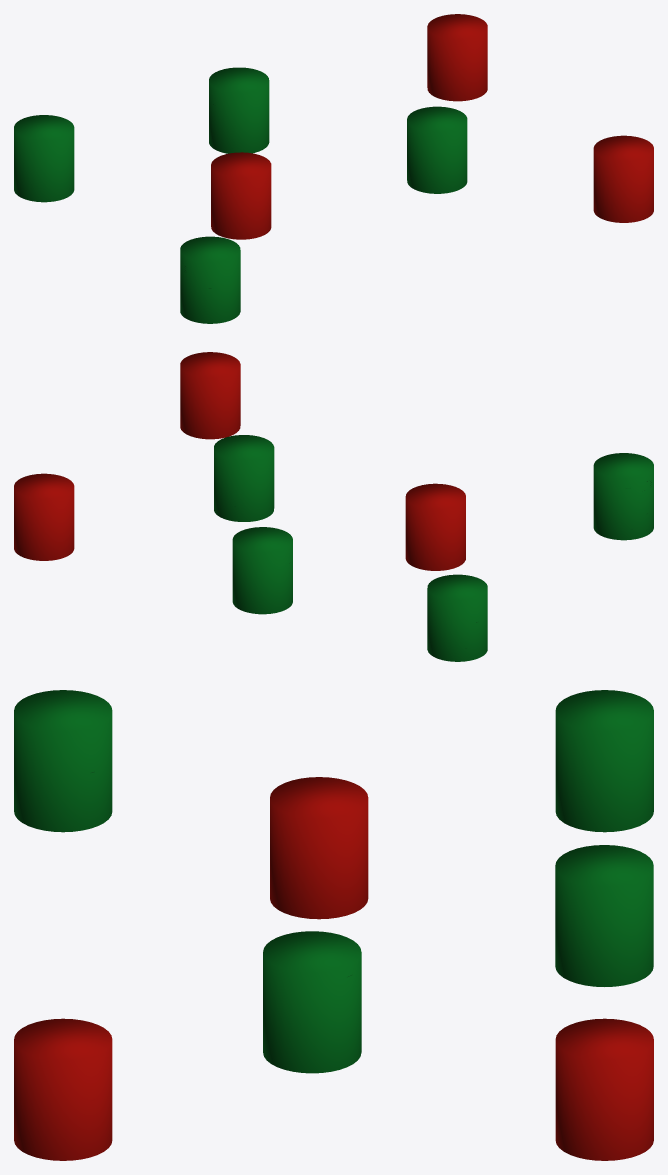
The model's file is CylindersTL.dae.
3 views of the same model, one above another, from view 1: azimuth 30°, elevation 25°; view 2: azimuth 150°, elevation 25°; view 3: azimuth 270°, elevation 25° (orthographic). The views are drawn at different scales.
Parts seen in each view (by area): view 1: CylinderTL; view 2: CylinderTL; view 3: CylinderTL.
Boxes of the visible parts, x1,y1,x2,y2 form: CylinderTL: (14, 14, 653, 323); CylinderTL: (14, 352, 653, 661); CylinderTL: (14, 690, 653, 1160).
Bounding box in the file's own units: 3.57 × 2.61 × 0.4529.
2 materials, 2 textured.
